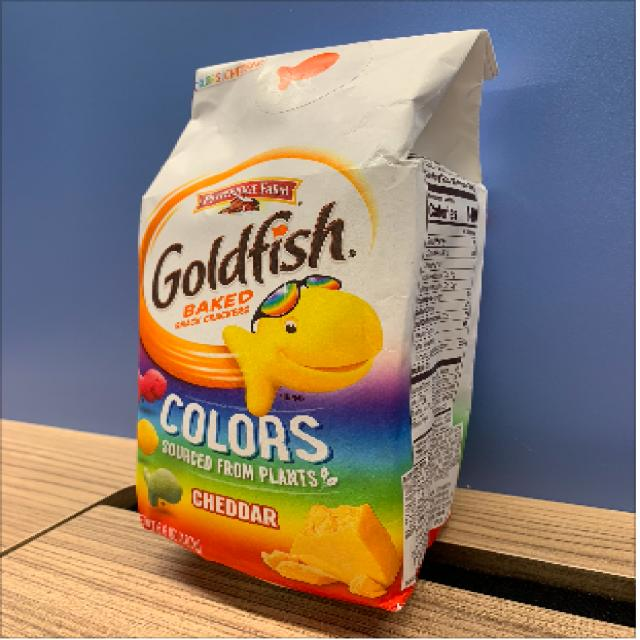object_name: (142, 66, 456, 563)
